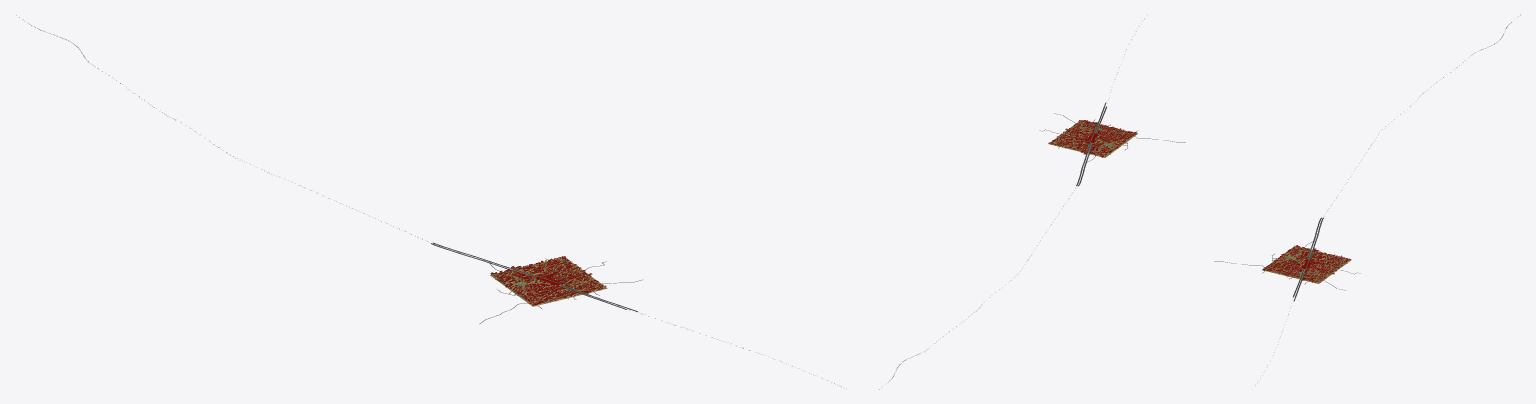
The picture shows the model from 3 angles, left to right: view 1: azimuth 30°, elevation 25°; view 2: azimuth 150°, elevation 25°; view 3: azimuth 330°, elevation 25°; orthographic projection. The views are drawn at different scales.
Bounding box in the file's own units: 1742 × 23 × 7406.
11 materials, 10 textured.
